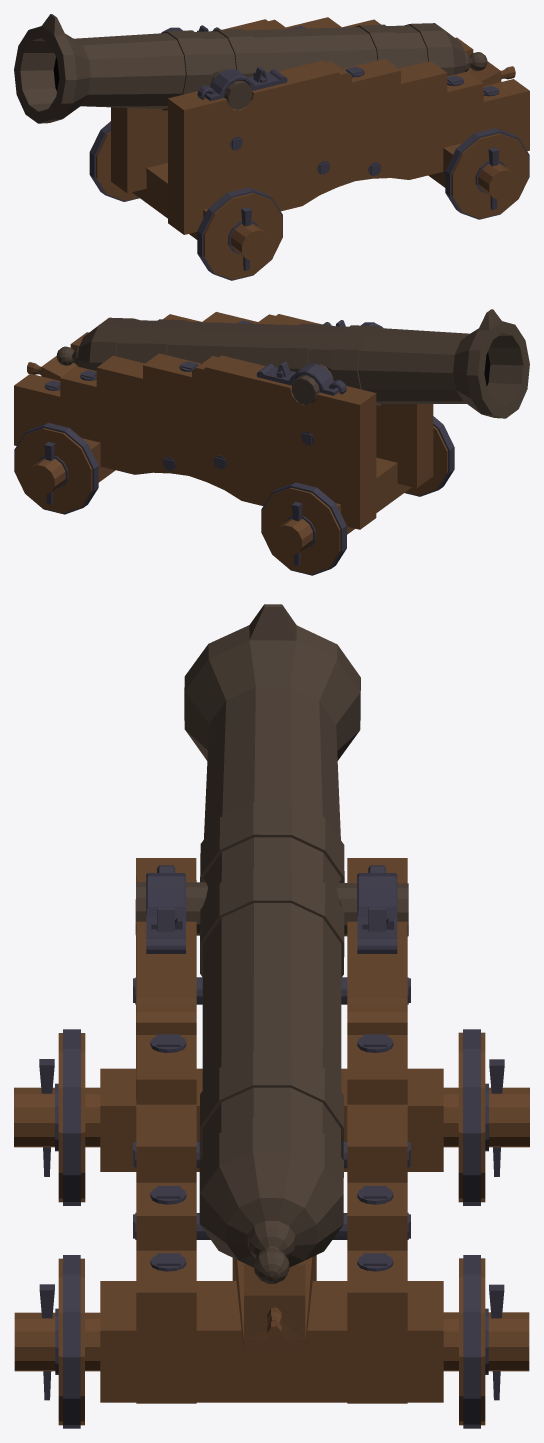
The model's file is Cannon_and_Naval_Truck_Carriage.fbx.
3 views of the same model, one above another, from view 1: azimuth 30°, elevation 25°; view 2: azimuth 150°, elevation 25°; view 3: azimuth 270°, elevation 25° (orthographic). The views are drawn at different scales.
Visible parts, largest first — view 1: Naval Carriage, Cannon; view 2: Naval Carriage, Cannon; view 3: Naval Carriage, Cannon.
Part boxes in pixels (x1,y1,x2,y2): Naval Carriage: [89, 17, 529, 280]; Cannon: [14, 14, 487, 123]; Naval Carriage: [14, 312, 454, 575]; Cannon: [56, 309, 529, 418]; Naval Carriage: [14, 858, 529, 1428]; Cannon: [135, 604, 408, 1283].
Bounding box in the file's own units: 256 × 128 × 127.
